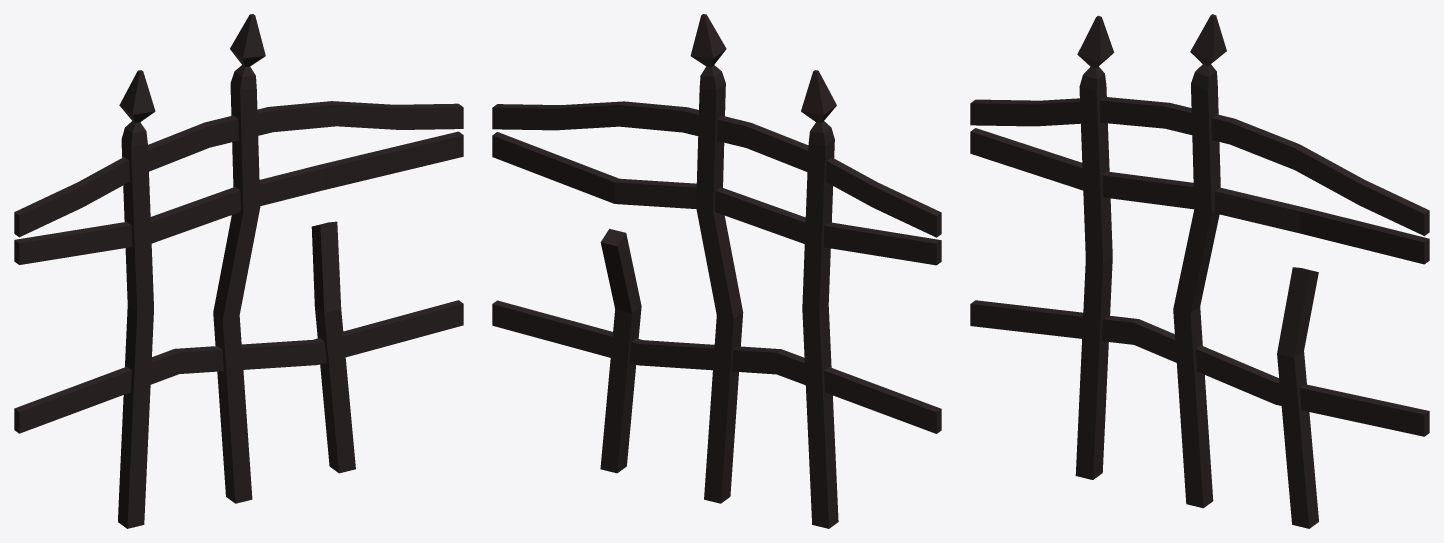
The model's file is fenceBSection4.glb.
The picture shows the model from 3 angles, left to right: view 1: azimuth 30°, elevation 25°; view 2: azimuth 150°, elevation 25°; view 3: azimuth 330°, elevation 25°; orthographic projection. The views are drawn at different scales.
Visible parts, largest first — view 1: fenceBSection4; view 2: fenceBSection4; view 3: fenceBSection4.
Boxes of the visible parts, x1,y1,x2,y2 form: fenceBSection4: (14,14,463,528); fenceBSection4: (492,14,941,528); fenceBSection4: (970,14,1429,528).
Bounding box in the file's own units: 2 × 2.07 × 0.1568.
1 material, 1 textured.
